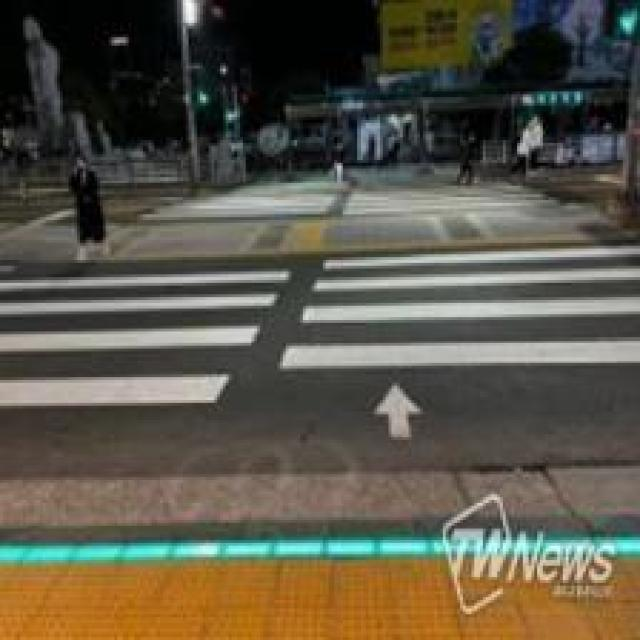walk-crossing: (0, 251, 637, 412), (143, 187, 571, 219)
